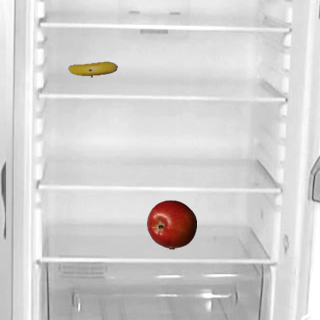Apple Braeburn: (146, 199, 196, 249)
Banana: (67, 44, 117, 94)
